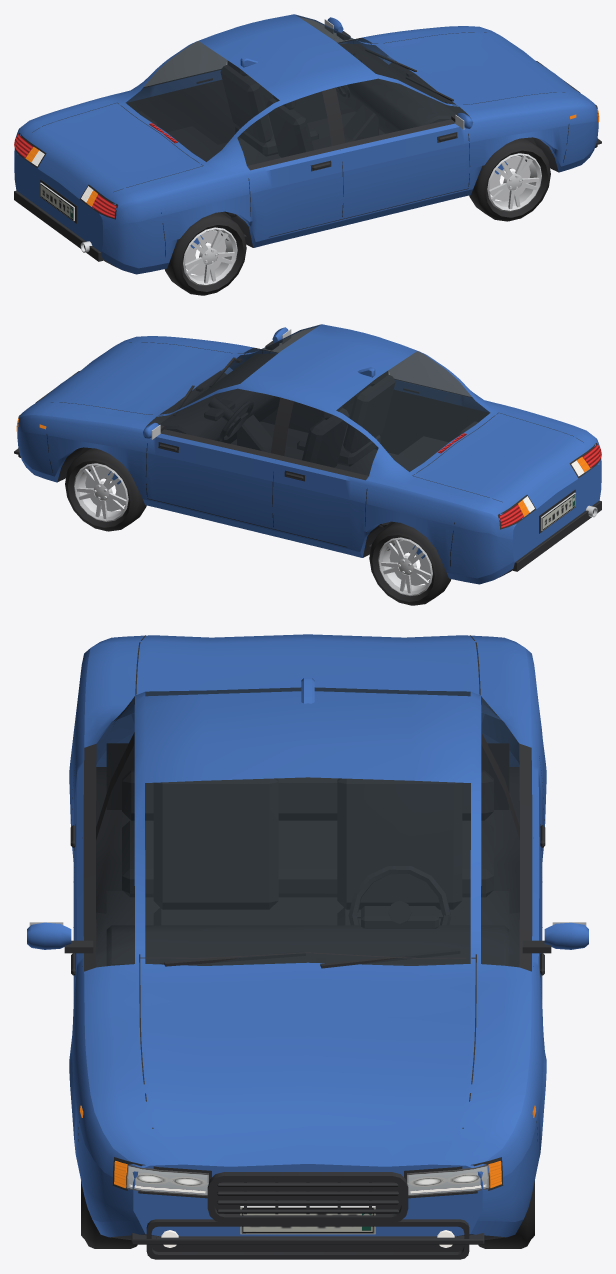
Rendered from car_sedan.glb.
3 views of the same model, one above another, from view 1: azimuth 30°, elevation 25°; view 2: azimuth 150°, elevation 25°; view 3: azimuth 270°, elevation 25° (orthographic). The views are drawn at different scales.
Parts seen in each view (by area): view 1: Body, Wheel_RR, Wheel_FR; view 2: Body, Wheel_RL, Wheel_FL; view 3: Body, Wheel_FL, Wheel_FR.
Part boxes in pixels (x1=…): Body: x1=14, y1=14, x2=601, y2=274; Wheel_RR: x1=164, y1=212, x2=246, y2=295; Wheel_FR: x1=469, y1=138, x2=550, y2=221; Body: x1=14, y1=324, x2=601, y2=584; Wheel_RL: x1=369, y1=522, x2=451, y2=605; Wheel_FL: x1=65, y1=448, x2=146, y2=531; Body: x1=27, y1=634, x2=588, y2=1259; Wheel_FL: x1=478, y1=1181, x2=534, y2=1248; Wheel_FR: x1=81, y1=1181, x2=137, y2=1248.
Size of the model in its own units: 4.49 by 1.49 by 2.16.
7 materials, 3 textured.
